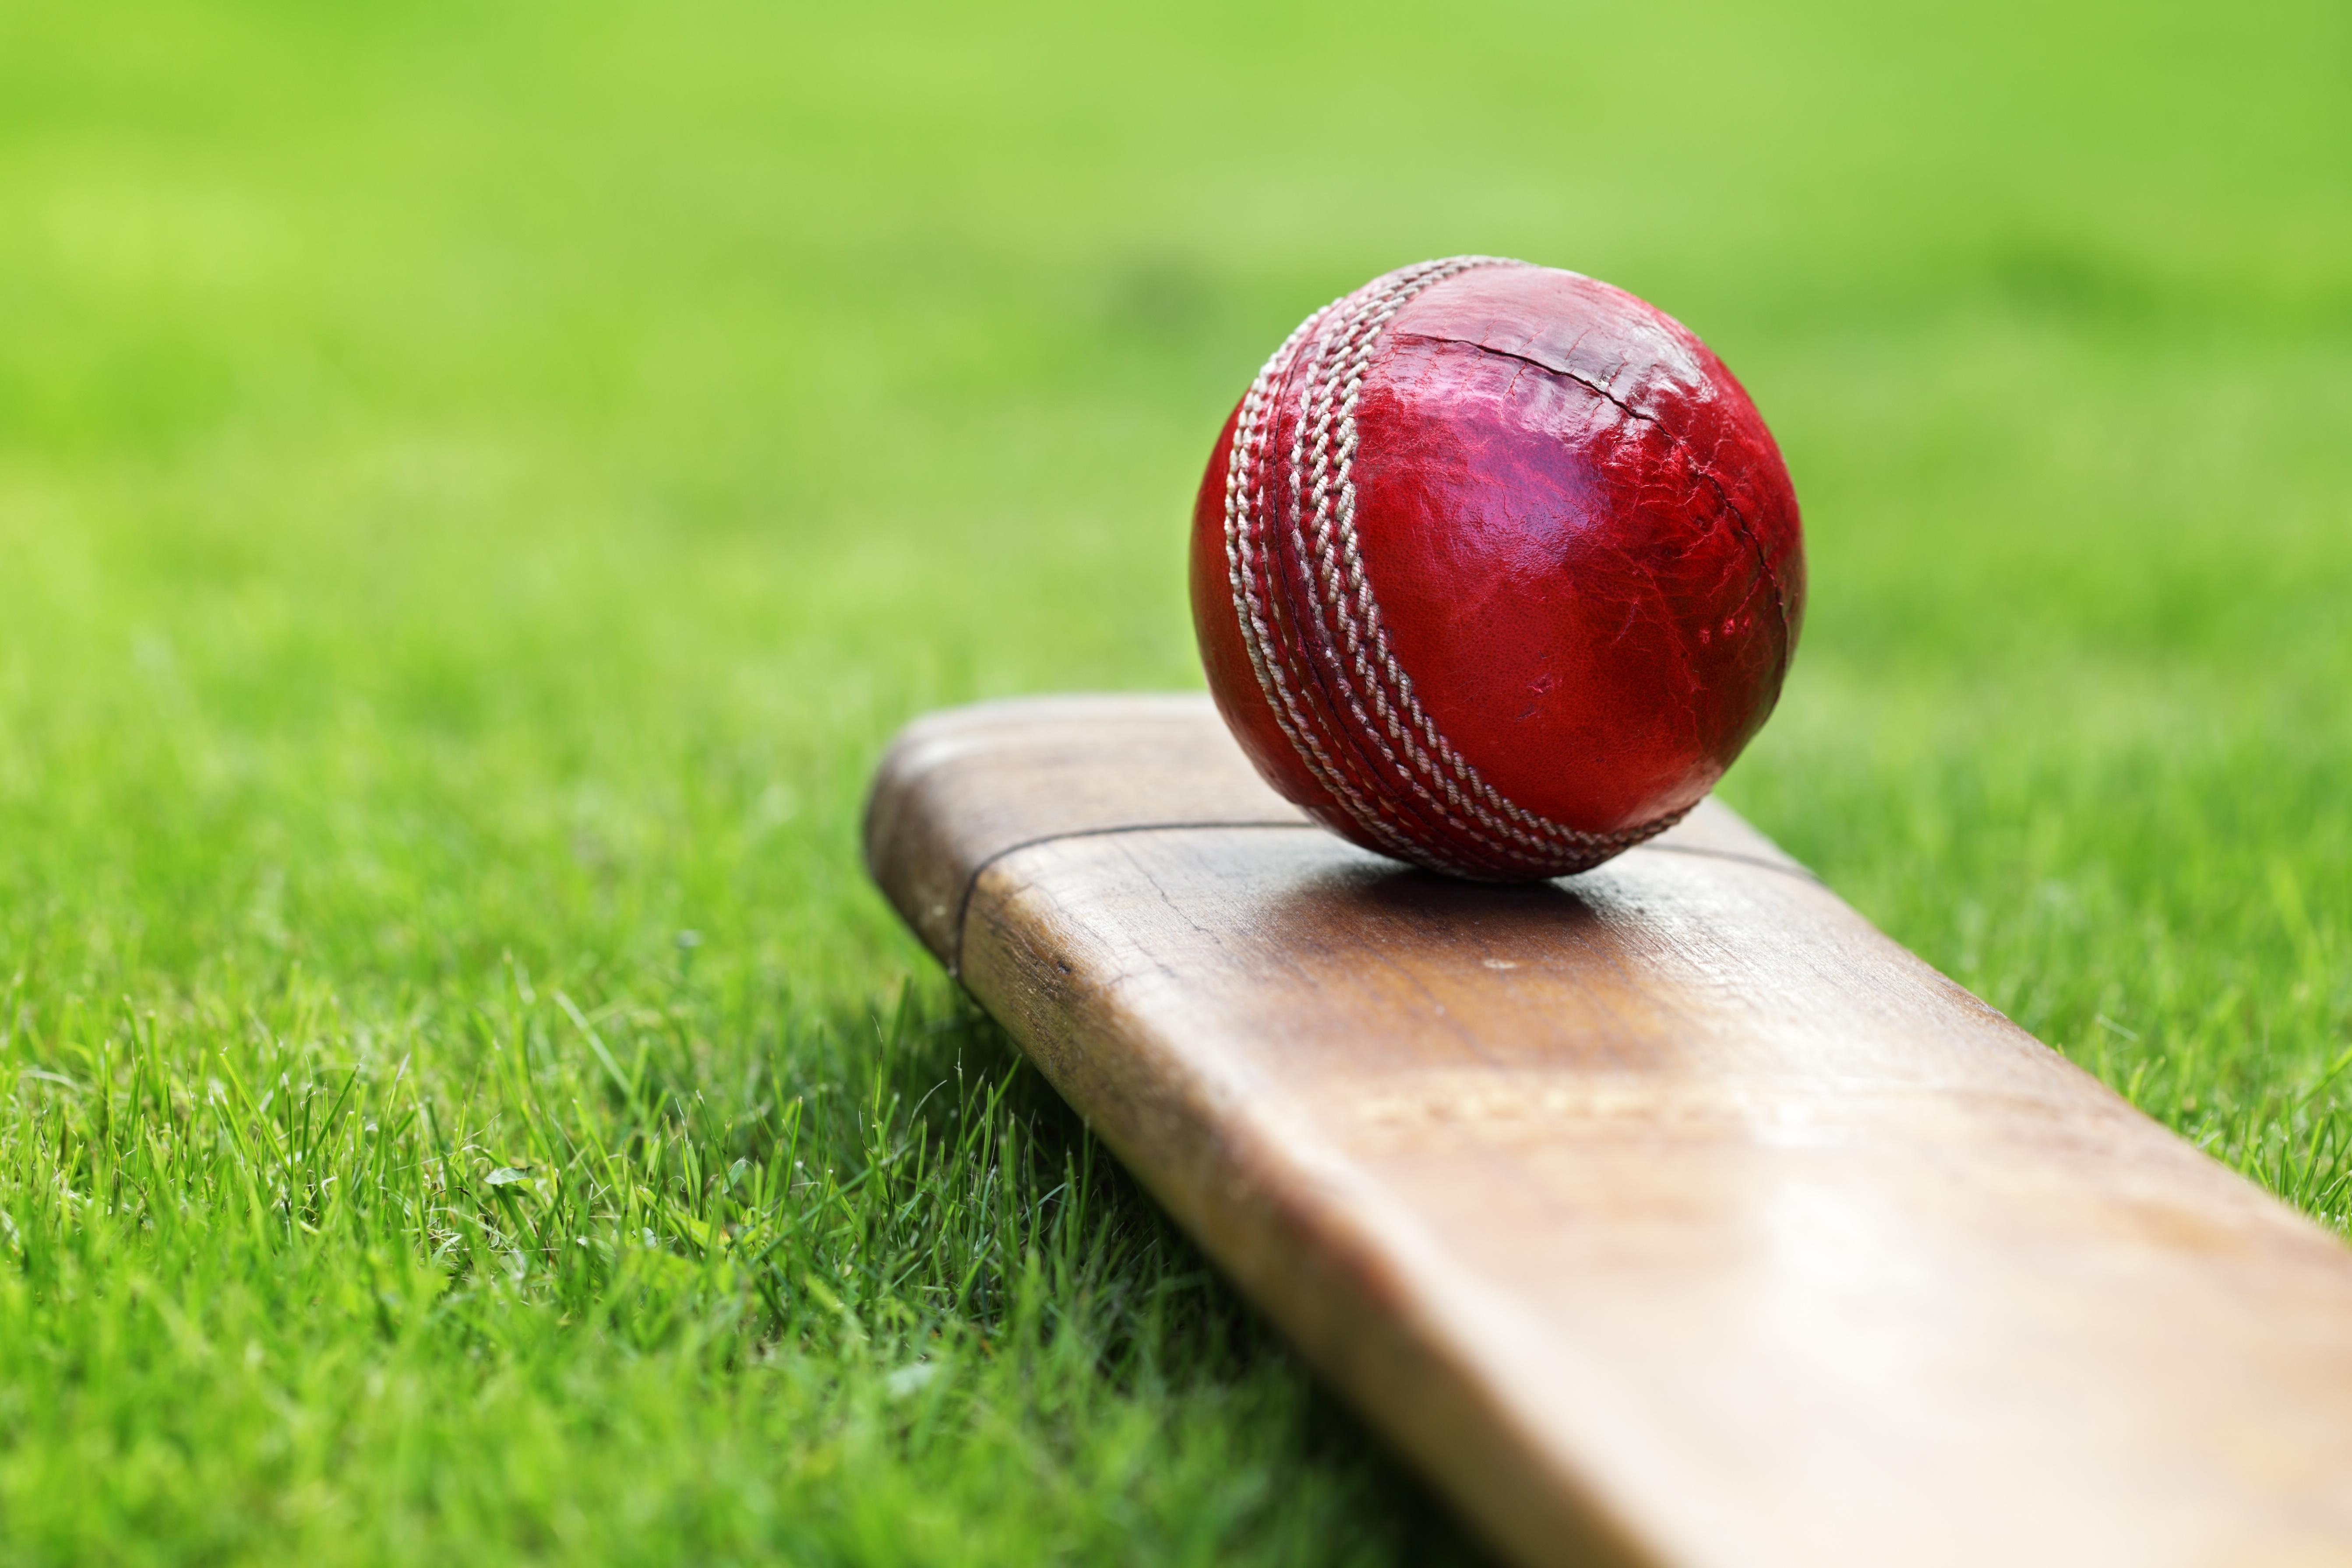Red_Ball: (1130, 247, 1820, 896)
